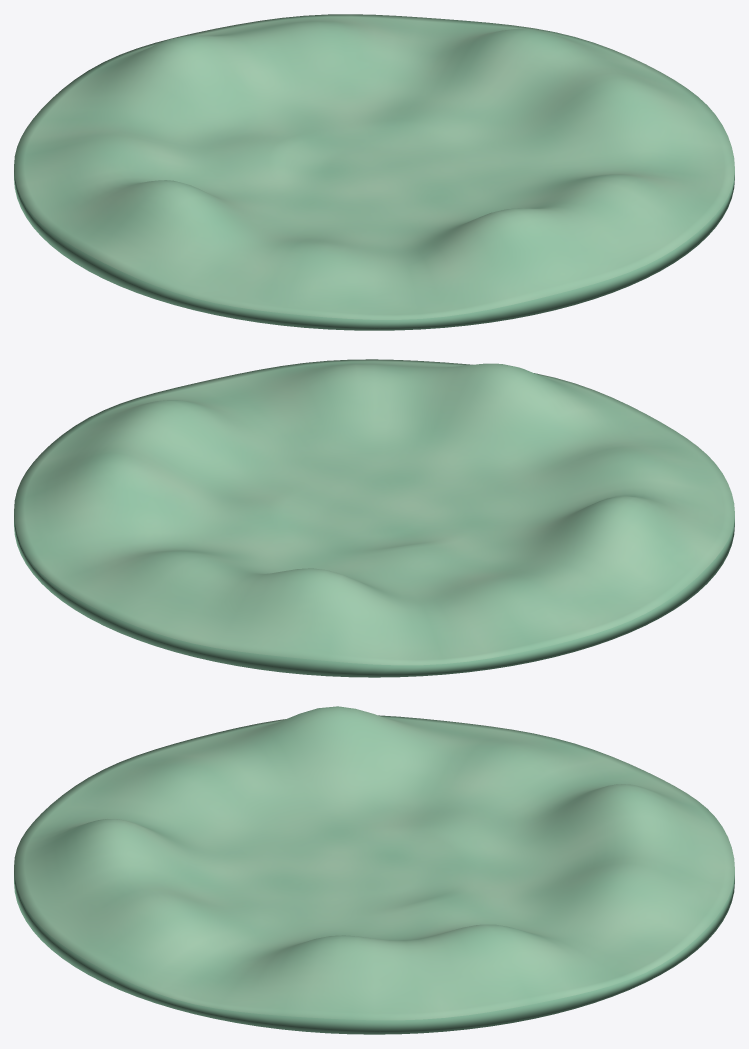
File: W4_Ground.fbx
3 views of the same model, one above another, from view 1: azimuth 30°, elevation 25°; view 2: azimuth 150°, elevation 25°; view 3: azimuth 270°, elevation 25° (orthographic).
Visible parts, largest first — view 1: W4_Ground; view 2: W4_Ground; view 3: W4_Ground.
Boxes of the visible parts, x1,y1,x2,y2 form: W4_Ground: (14, 14, 734, 330); W4_Ground: (14, 359, 734, 677); W4_Ground: (14, 706, 734, 1034).
Size of the model in its own units: 22 by 2.09 by 22.
